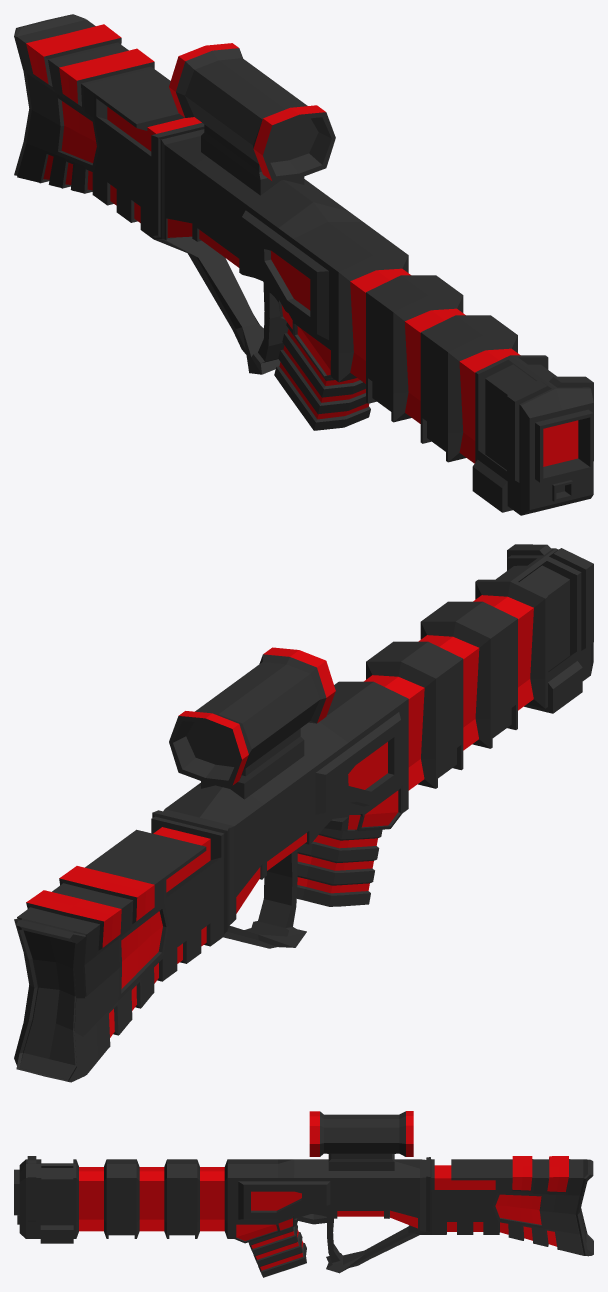
The picture shows the model from 3 angles, top to bottom: view 1: azimuth 30°, elevation 25°; view 2: azimuth 150°, elevation 25°; view 3: azimuth 270°, elevation 25°; orthographic projection. The views are drawn at different scales.
Parts seen in each view (by area): view 1: Cube; view 2: Cube; view 3: Cube.
Part boxes in pixels (<box>): Cube: <box>14,14,593,515</box>; Cube: <box>14,544,593,1082</box>; Cube: <box>14,1111,593,1277</box>.
Bounding box in the file's own units: 240 × 766 × 2596.
